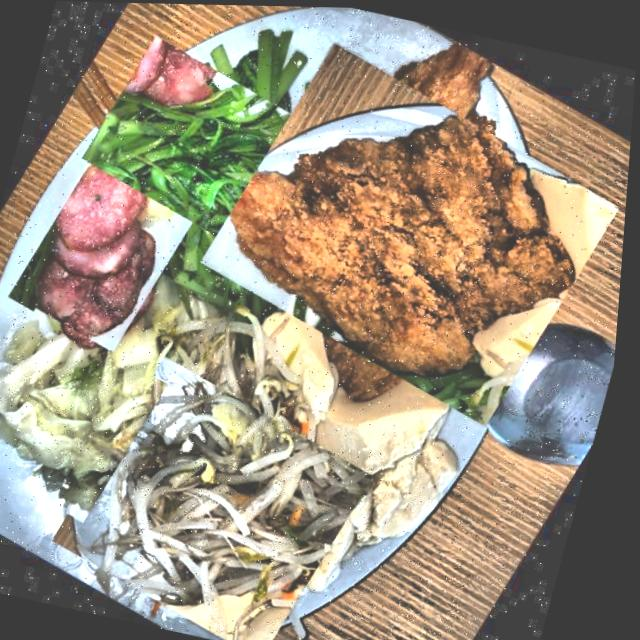Food: (184, 14, 639, 451), (47, 336, 396, 640), (76, 11, 384, 307), (1, 137, 216, 366), (0, 297, 187, 532)
